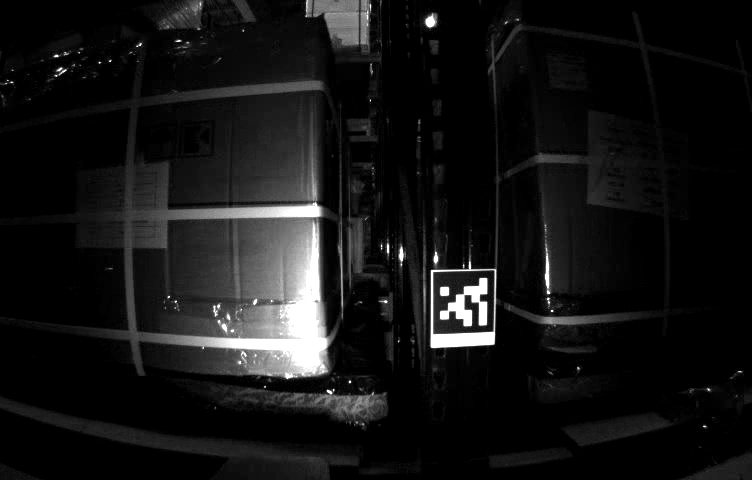True Barcode: (547, 52, 590, 91)
